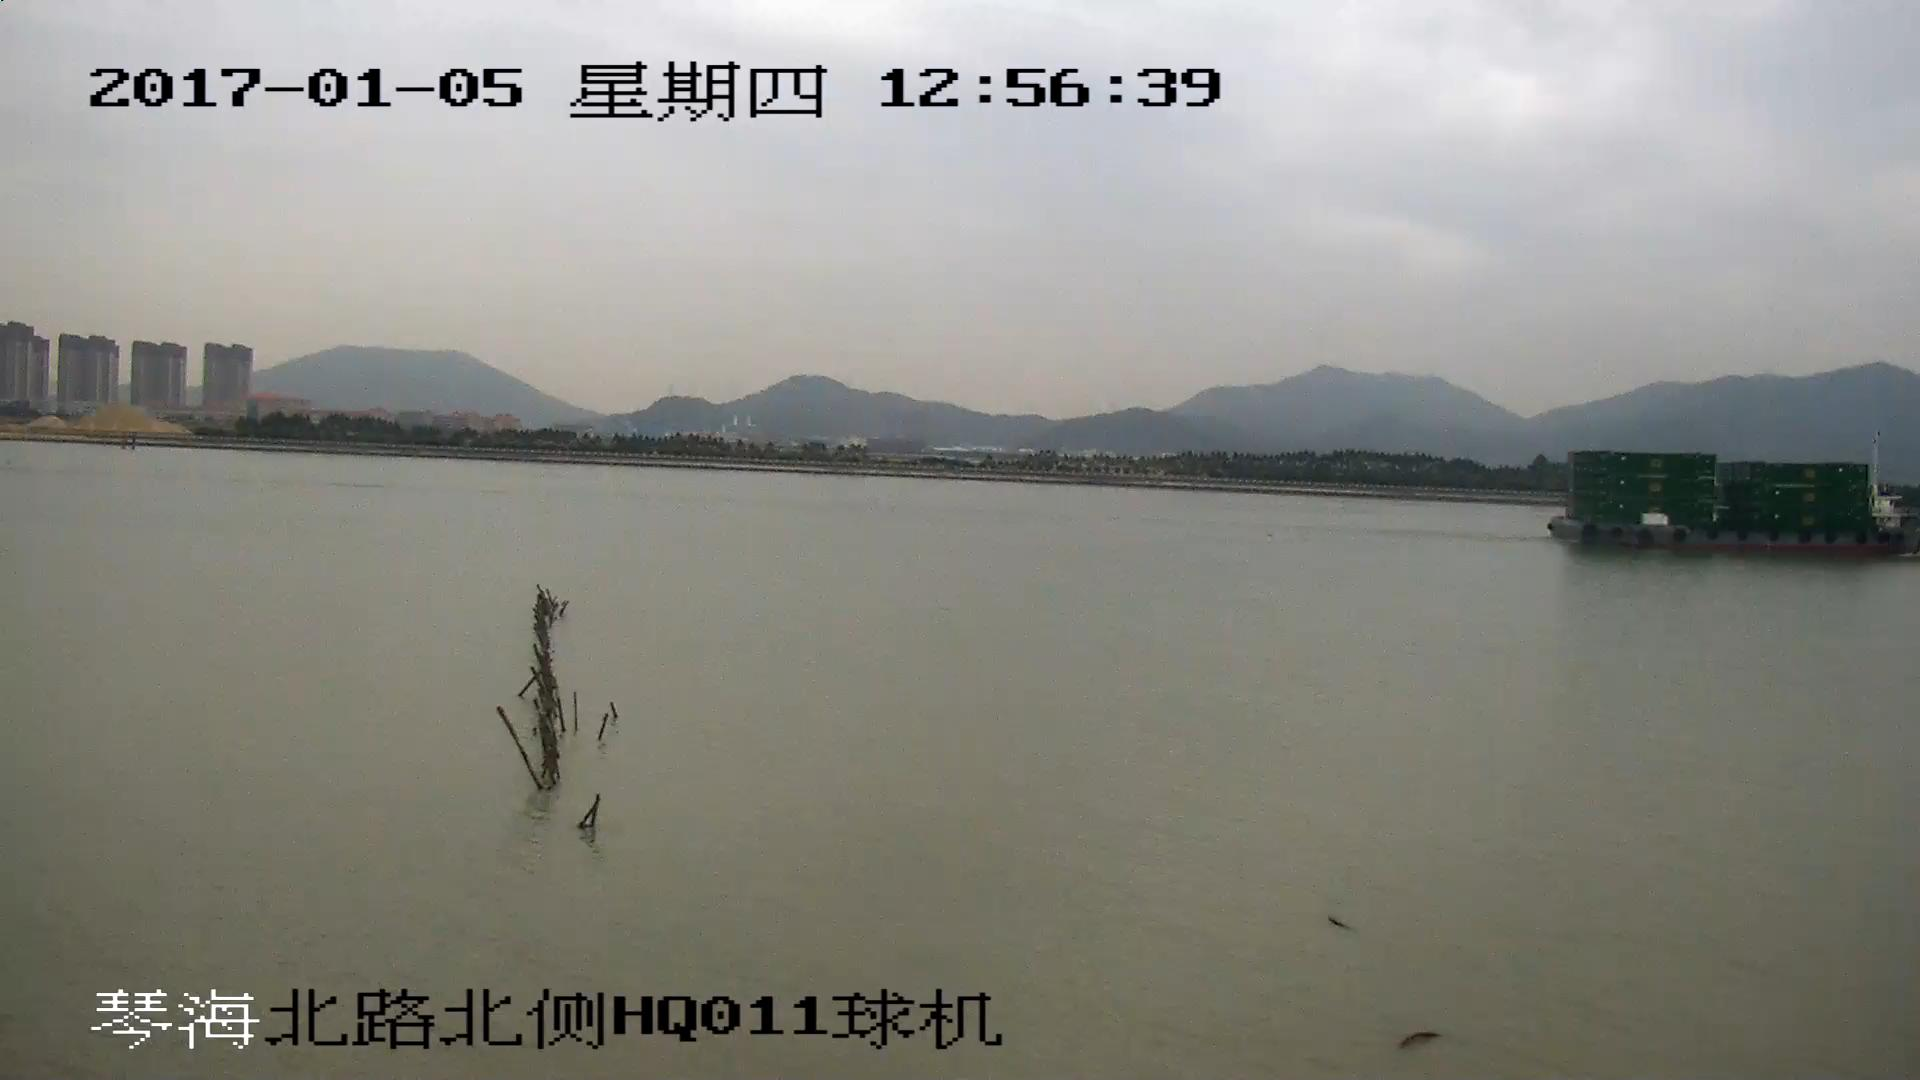container ship: (1556, 450, 1920, 553)
